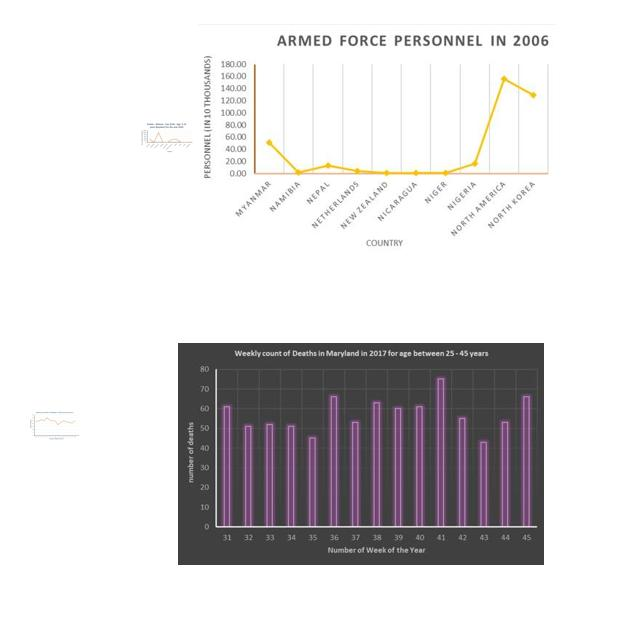Graph: (198, 24, 556, 257), (178, 343, 544, 565), (140, 122, 193, 153), (29, 411, 80, 441)
